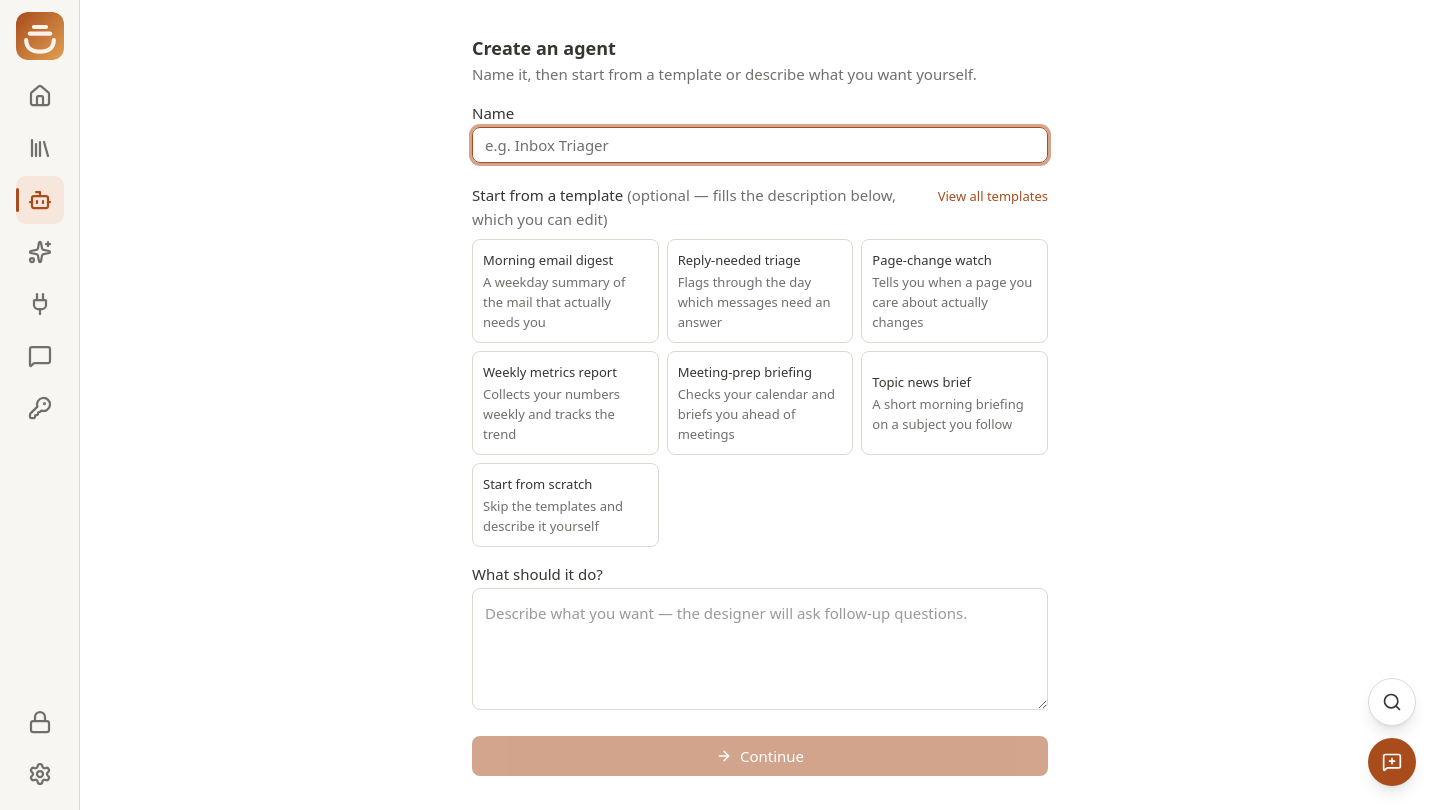
searching filters by context (a keyword that isn't in the prose)
Expected: the text box labelled "What should it do?" is shown, [472, 588, 1048, 710]
Step 1. Click the button "View all templates" → coordinates (993, 196), box [938, 186, 1048, 206]
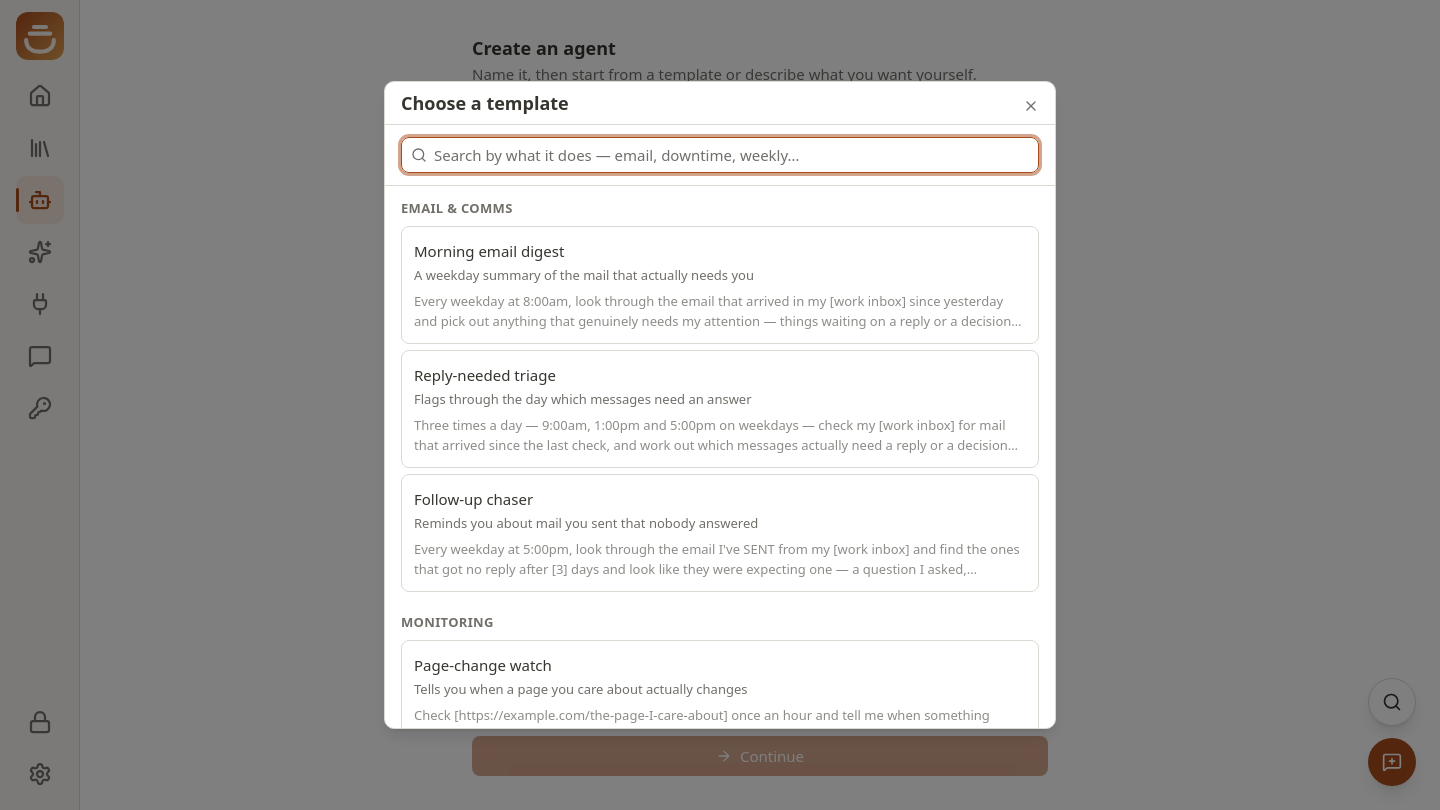
Step 2. Type "downtime" into the search field named "search templates" → coordinates (720, 155), box [401, 137, 1039, 173]
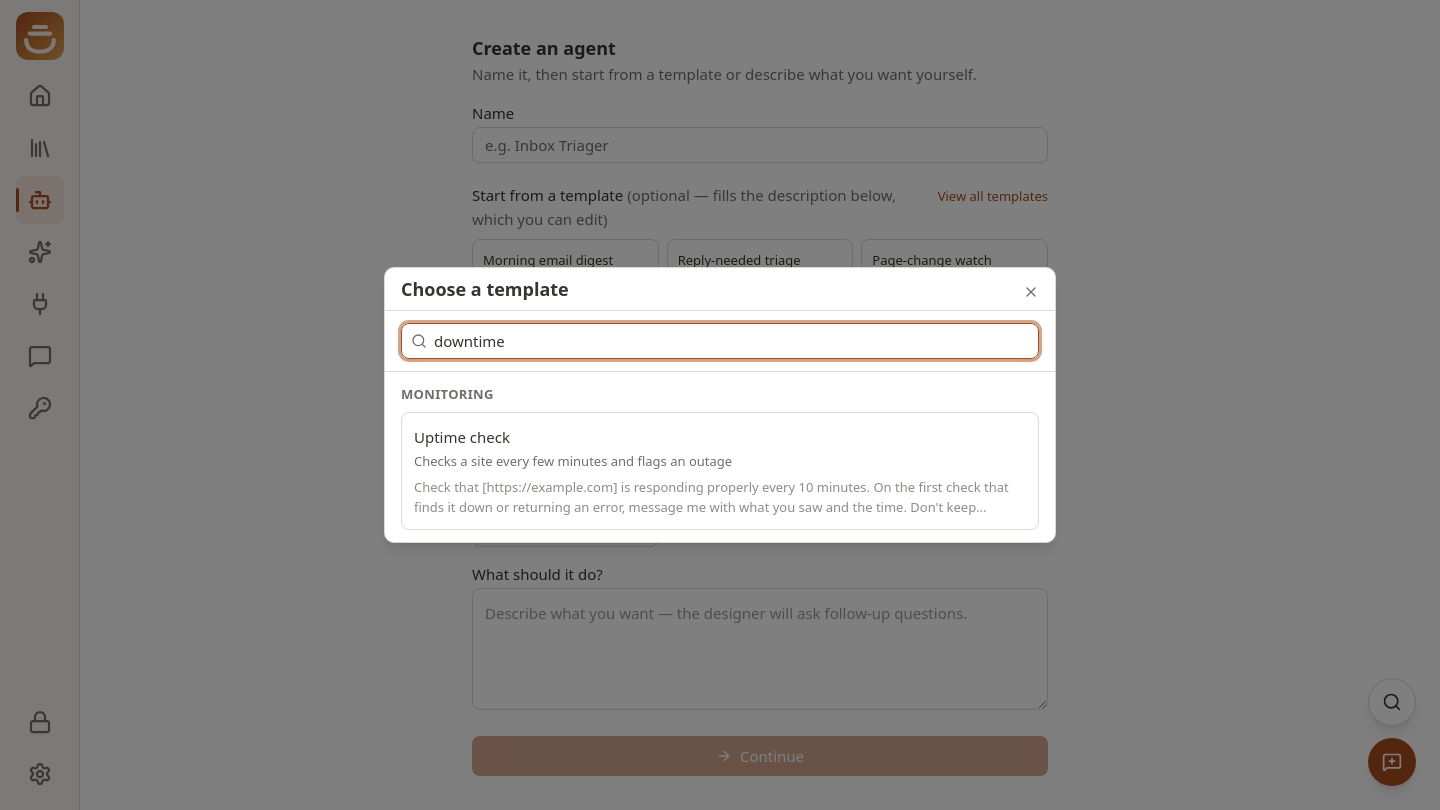
Result: the button "Uptime check" is shown at [401, 412, 1039, 530]
